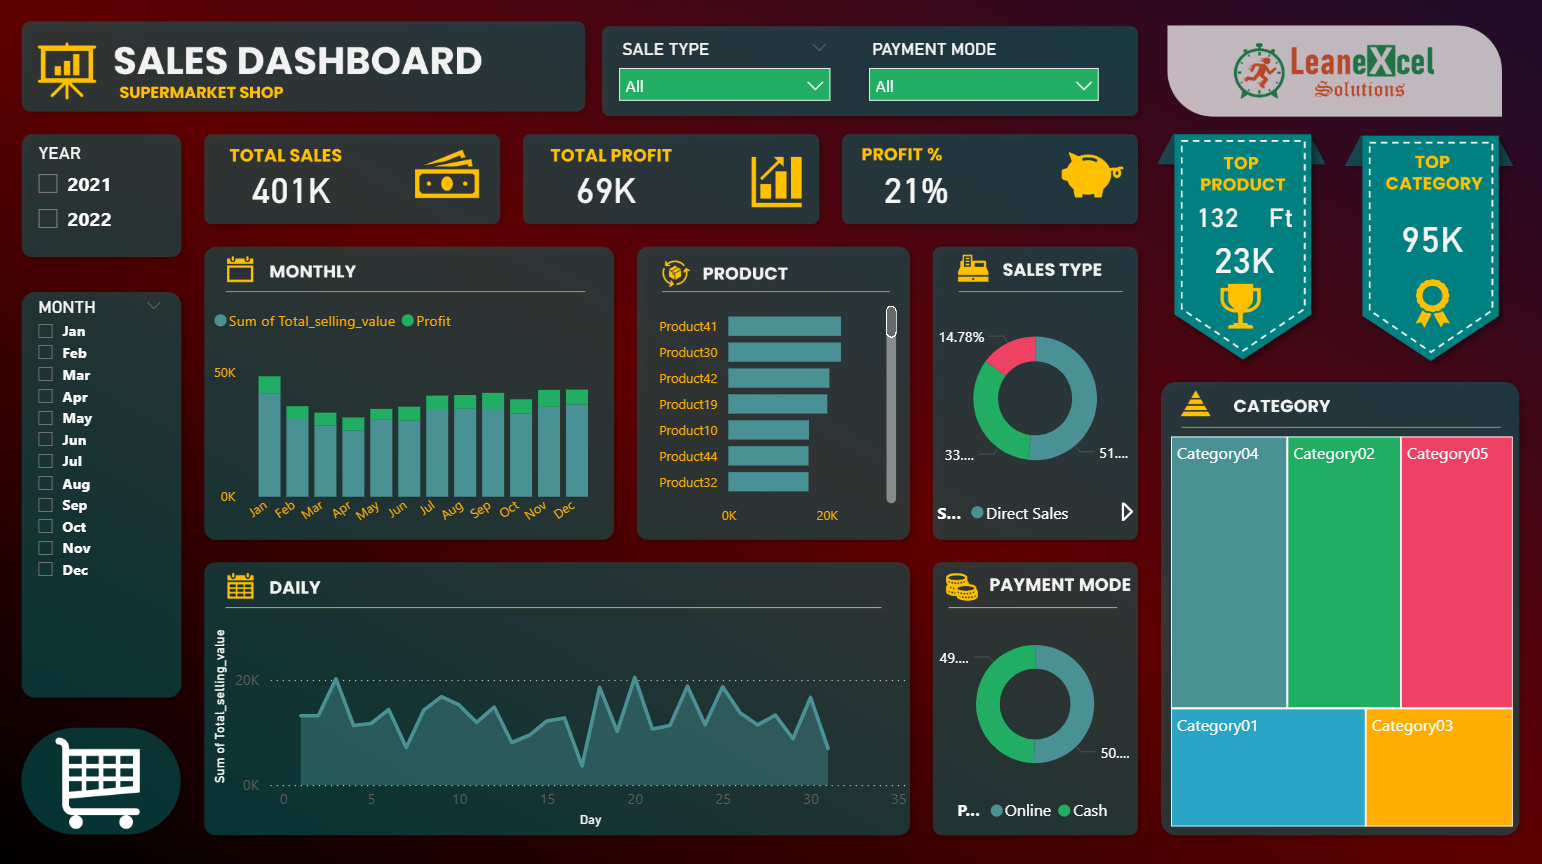

The dashboard page shown, as its layout file describes it:
{"tool":"powerbi","page":{"name":"Page 1","canvas":[1280,720],"ordinal":0},"visuals":[{"type":"slicer","fields":{"Values":["InputData.Year"]},"box":[20,115.6,128.9,97.8],"z":0},{"type":"slicer","fields":{"Values":["InputData.SALE TYPE"]},"box":[503.3,30,195.6,63.3],"z":1000},{"type":"slicer","fields":{"Values":["InputData.PAYMENT MODE"]},"box":[711.1,30,211.1,63.3],"z":2000},{"type":"slicer","fields":{"Values":["InputData.Month Name"]},"box":[20,243.3,127.8,245.6],"z":3000},{"type":"card","title":"Total Selling value","fields":{"Values":["Sum(InputData.Total_selling_value)"]},"box":[162.2,115.6,158.9,85.6],"z":4000},{"type":"card","title":"Profit","fields":{"Values":["InputData.Profit"]},"box":[423.3,115.6,158.9,85.6],"z":5000},{"type":"card","title":"Profit %","fields":{"Values":["InputData.Profit%"]},"box":[681.1,115.6,158.9,85.6],"z":6000},{"type":"card","title":"Total Selling value","fields":{"Values":["Sum(InputData.Total_selling_value)"]},"box":[992.2,191.1,81.1,52.2],"z":7000},{"type":"card","title":"Total Selling value","fields":{"Values":["Sum(InputData.Total_selling_value)"]},"box":[1141.1,164.4,94.4,70],"z":8000},{"type":"card","title":"Quantity","fields":{"Values":["Sum(InputData.QUANTITY)"]},"box":[978.9,164.4,62.2,36.7],"z":9000},{"type":"card","title":"Find MasterData.UOM","fields":{"Values":["Min(InputData.MasterData.UOM)"]},"box":[1041.1,164.4,43.3,36.7],"z":10000},{"type":"columnChart","title":" Total Selling Value and Profit by Month Name","fields":{"Category":["InputData.Month Name"],"Y":["Sum(InputData.Total_selling_value)","InputData.Profit"]},"box":[173.3,248.9,330,197.8],"z":11000},{"type":"barChart","title":"Total Selling Value by MasterData.PRODUCT","fields":{"Y":["Sum(InputData.Total_selling_value)"],"Category":["InputData.MasterData.PRODUCT"]},"box":[537.8,243.3,211.1,203.3],"z":12000},{"type":"areaChart","title":"Total Selling Value by Day","fields":{"Y":["Sum(InputData.Total_selling_value)"],"Category":["InputData.Day"]},"box":[173.3,508.9,587.8,184.4],"z":13000},{"type":"donutChart","title":"Total Selling Value by SALE TYPE","fields":{"Y":["Sum(InputData.Total_selling_value)"],"Category":["InputData.SALE TYPE"]},"box":[773.3,248.9,172.2,197.8],"z":14000},{"type":"donutChart","title":"Total Selling Value by PAYMENT MODE","fields":{"Y":["Sum(InputData.Total_selling_value)"],"Category":["InputData.PAYMENT MODE"]},"box":[773.3,508.9,172.2,184.4],"z":15000},{"type":"treemap","fields":{"Group":["InputData.MasterData.CATEGORY"],"Values":["Sum(InputData.Total_selling_value)"]},"box":[966.7,360,293.3,333.3],"z":16000}]}

Visuals, with their boxes in screenshot pixels (x1, y1, x2, y2), scaled from the page's 1280x720 canvas onto the 1542x864 screenshot:
slicer - InputData.Year: (left=24, top=139, right=179, bottom=256)
slicer - InputData.SALE TYPE: (left=606, top=36, right=842, bottom=112)
slicer - InputData.PAYMENT MODE: (left=857, top=36, right=1111, bottom=112)
slicer - InputData.Month Name: (left=24, top=292, right=178, bottom=587)
"Total Selling value" card: (left=195, top=139, right=387, bottom=241)
"Profit" card: (left=510, top=139, right=701, bottom=241)
"Profit %" card: (left=821, top=139, right=1012, bottom=241)
"Total Selling value" card: (left=1195, top=229, right=1293, bottom=292)
"Total Selling value" card: (left=1375, top=197, right=1488, bottom=281)
"Quantity" card: (left=1179, top=197, right=1254, bottom=241)
"Find MasterData.UOM" card: (left=1254, top=197, right=1306, bottom=241)
" Total Selling Value and Profit by Month Name" columnChart: (left=209, top=299, right=606, bottom=536)
"Total Selling Value by MasterData.PRODUCT" barChart: (left=648, top=292, right=902, bottom=536)
"Total Selling Value by Day" areaChart: (left=209, top=611, right=917, bottom=832)
"Total Selling Value by SALE TYPE" donutChart: (left=932, top=299, right=1139, bottom=536)
"Total Selling Value by PAYMENT MODE" donutChart: (left=932, top=611, right=1139, bottom=832)
treemap - InputData.MasterData.CATEGORY x Sum(InputData.Total_selling_value): (left=1165, top=432, right=1518, bottom=832)
